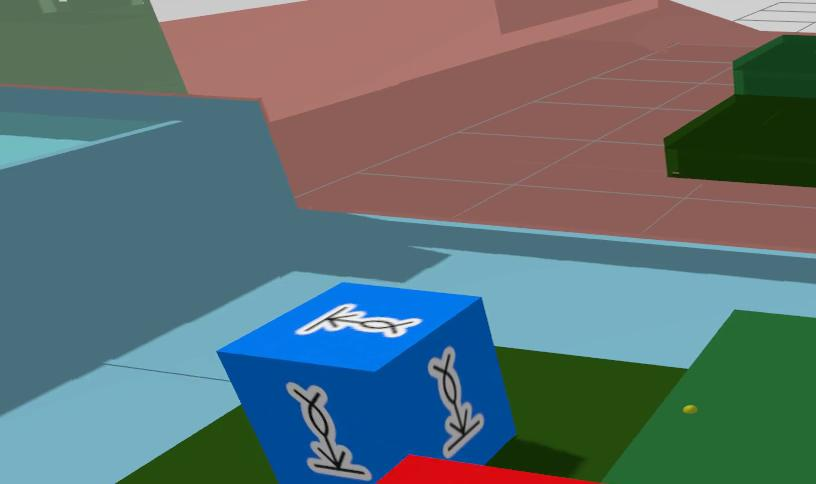KFS_FAKE: (369, 458, 623, 484)
KFS_REAL: (218, 283, 515, 484), (287, 383, 371, 479), (428, 347, 483, 457), (296, 303, 422, 337)
